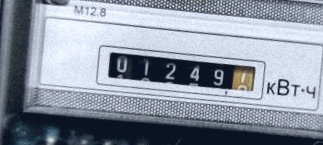0: (114, 53, 129, 74)
1: (139, 56, 151, 76)
2: (162, 60, 178, 81)
4: (187, 62, 201, 83)
7: (235, 64, 250, 85)
9: (210, 65, 226, 88)
screen: (86, 36, 266, 106)
